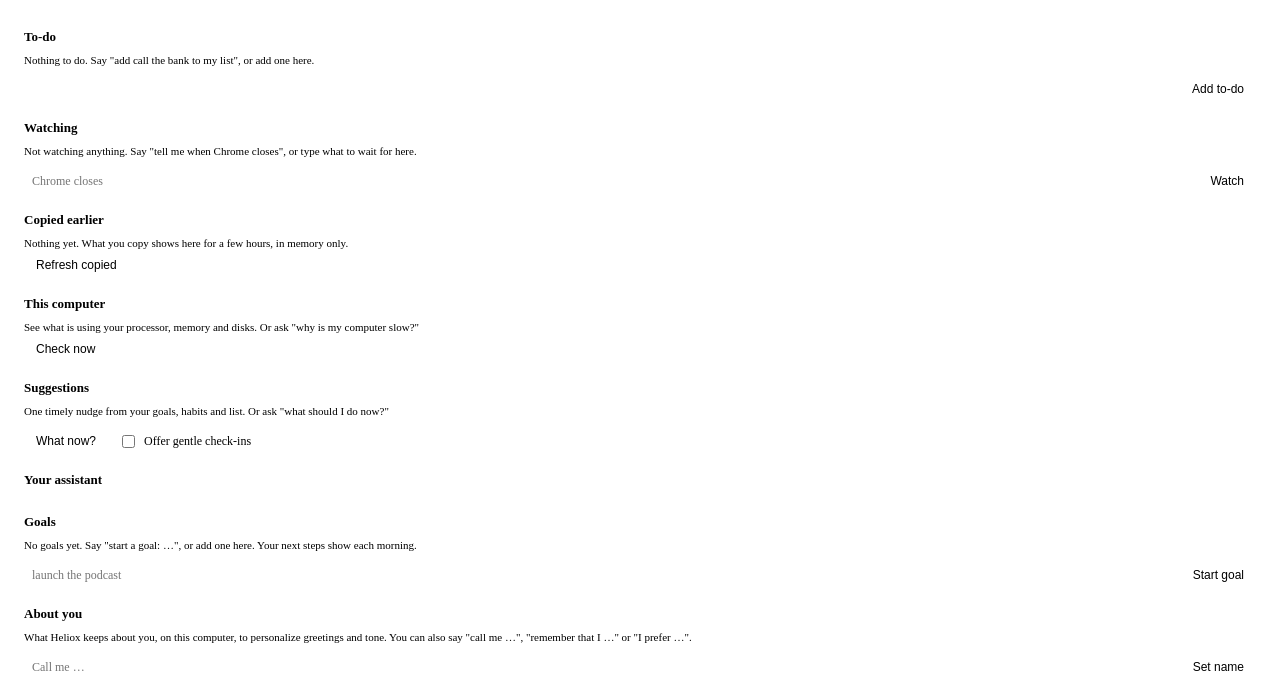
it: TodayPanel › checks this computer on request
(page scrolled)
Click the button "Check now" at (66,349), box 24,336 -> 107,362
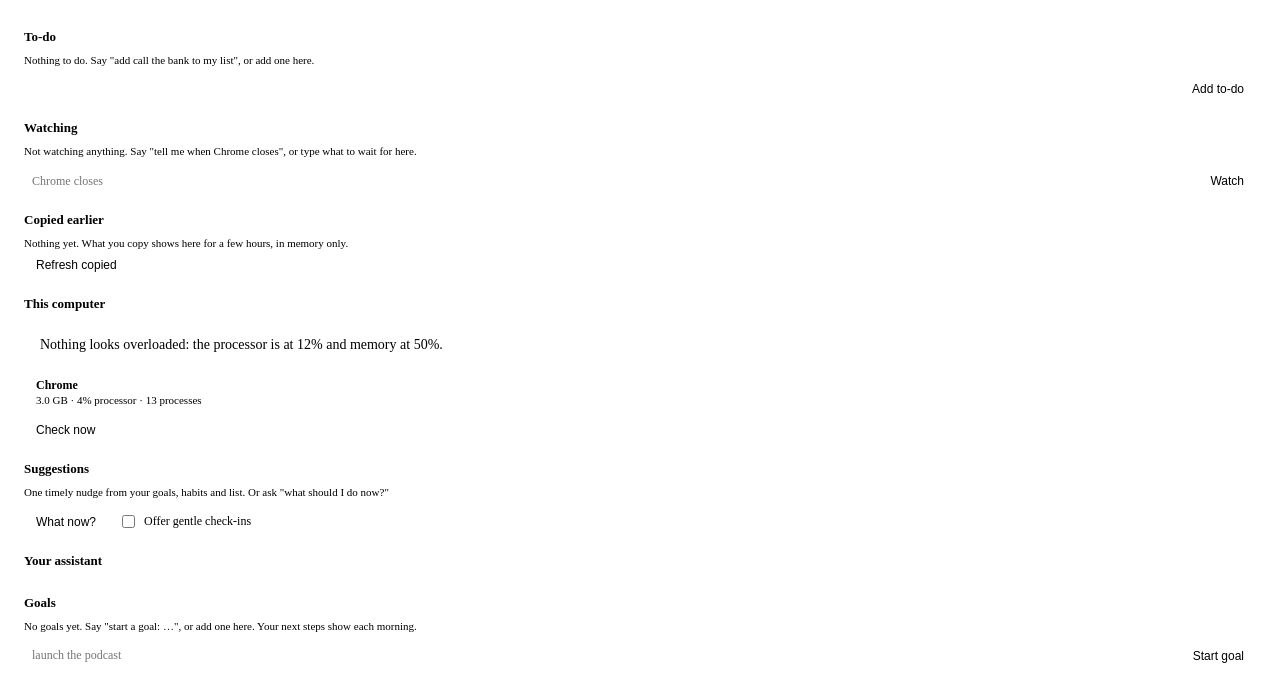
Now the text "Nothing looks overloaded" is shown, box 40,337 -> 443,352
Now the text "3.0 GB · 4% processor · 13 processes" is shown, box 36,394 -> 202,406
